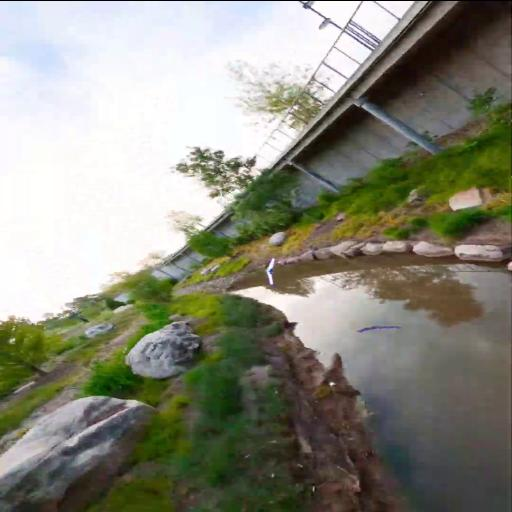uav: (259, 254, 283, 286)
